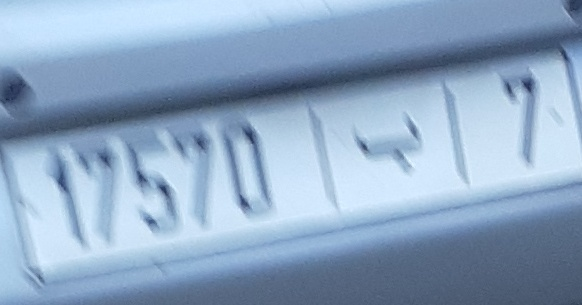0: (221, 115, 272, 219)
1: (29, 147, 91, 250)
5: (128, 128, 172, 240)
7: (494, 64, 553, 174), (82, 136, 121, 249), (178, 121, 215, 222)
b: (348, 100, 435, 179)
